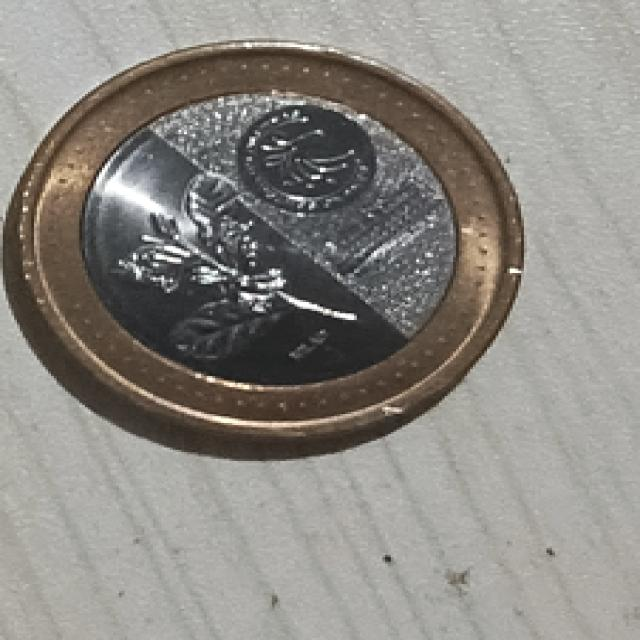20_peso: (6, 43, 521, 443)
